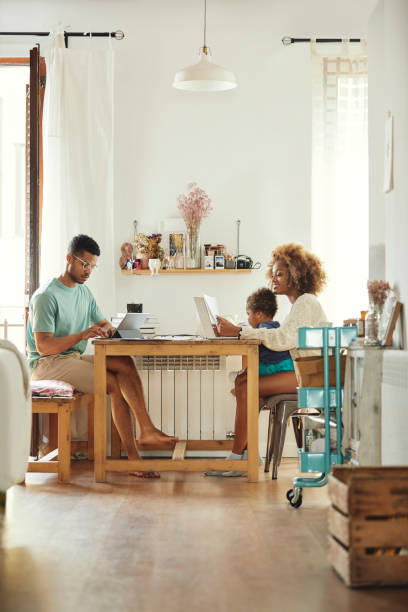without mask: (62, 243, 103, 286), (265, 254, 306, 297), (240, 294, 275, 329)
